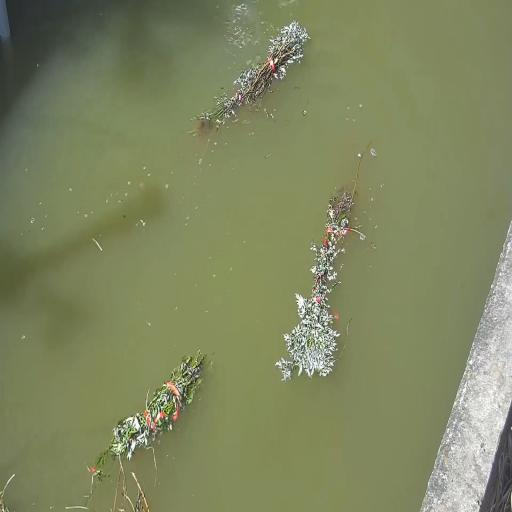twig: (276, 138, 373, 381), (97, 351, 204, 466), (196, 21, 309, 126), (110, 444, 157, 511)
